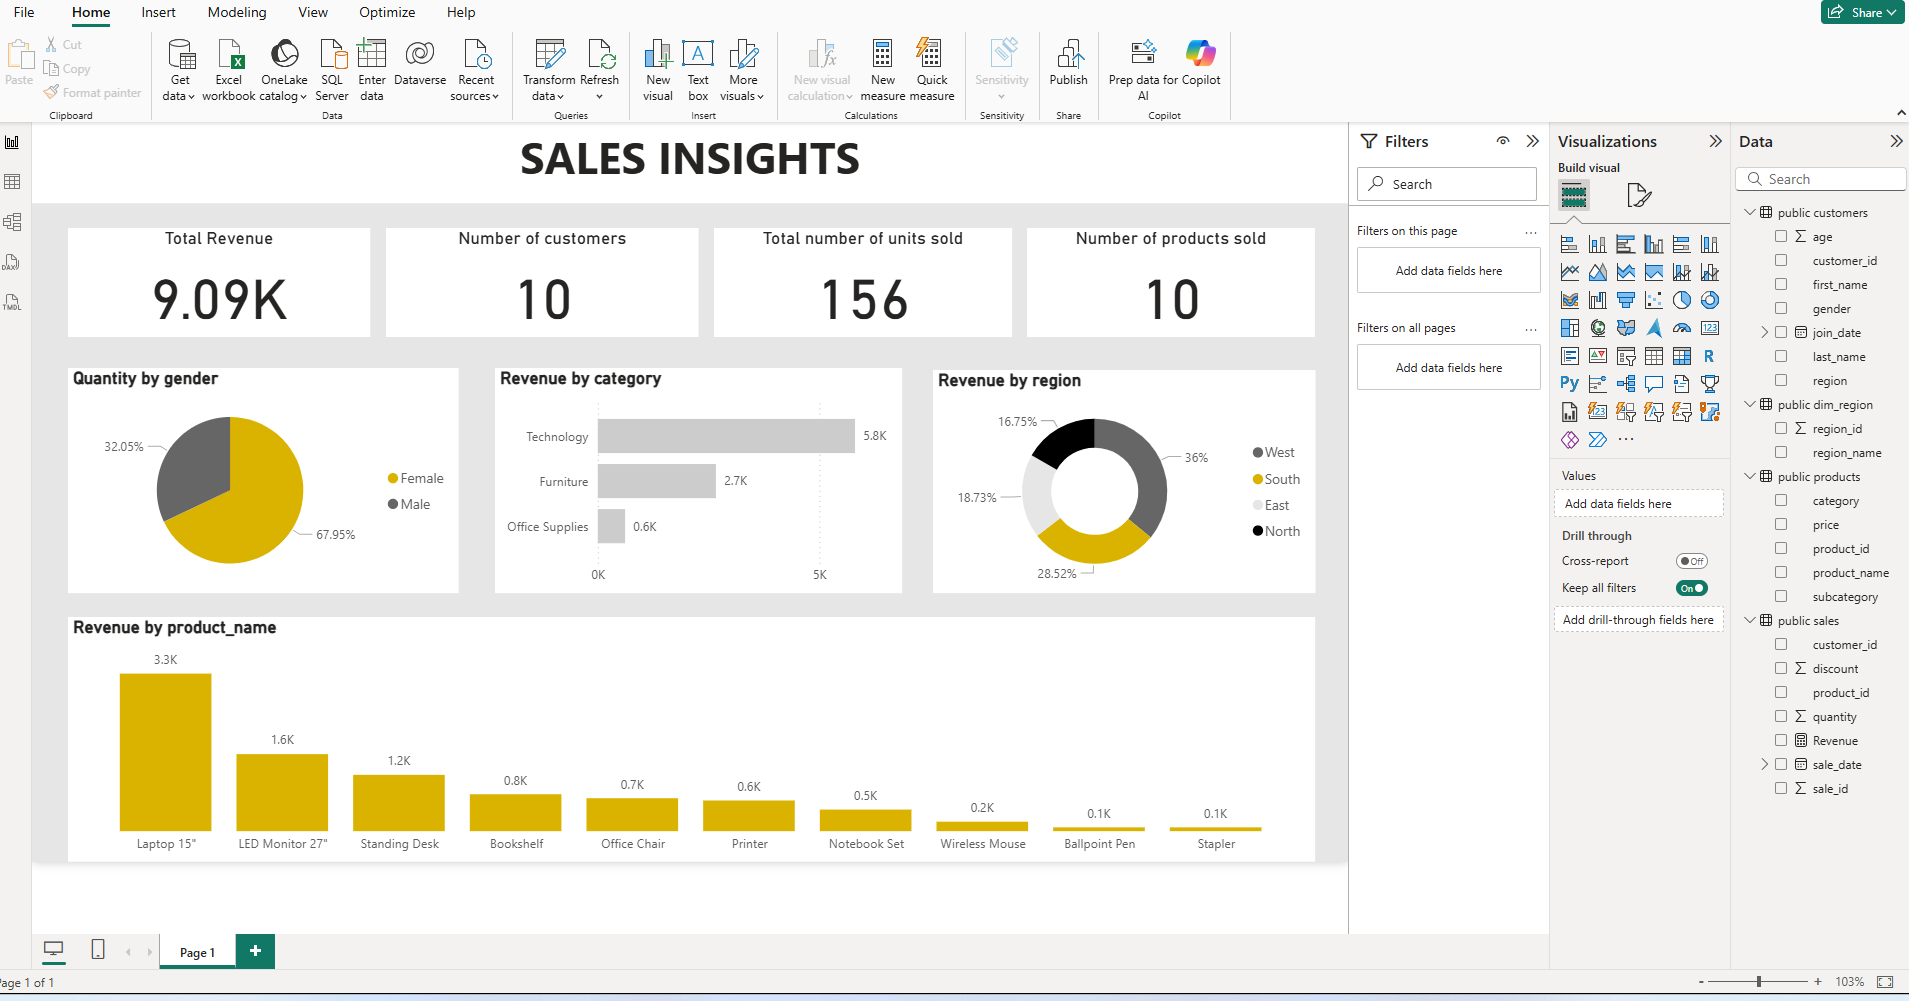

The dashboard page shown, as its layout file describes it:
{"tool":"powerbi","page":{"name":"Page 1","canvas":[1280,720],"ordinal":0},"visuals":[{"type":"pieChart","title":"Quantity by gender","fields":{"Series":["public customers.gender"],"Y":["Sum(public sales.quantity)"]},"box":[35,239.3,380.3,218.8],"z":0},{"type":"clusteredBarChart","fields":{"Category":["public products.category"],"Y":["public sales.Revenue"]},"box":[450.3,239.3,395.9,218.8],"z":1000},{"type":"donutChart","fields":{"Category":["public customers.region"],"Y":["public sales.Revenue"]},"box":[876.4,241.2,371.6,216.9],"z":2000},{"type":"card","title":"Total Revenue","fields":{"Values":["public sales.Revenue"]},"box":[35,103.1,293.7,106],"z":3000},{"type":"clusteredColumnChart","fields":{"Category":["public products.product_name"],"Y":["public sales.Revenue"]},"box":[35,481.5,1212.9,238.3],"z":4000},{"type":"textbox","box":[0,0,1280,78.8],"z":5000},{"type":"card","title":"Total number of units sold","fields":{"Values":["Sum(public sales.quantity)"]},"box":[663.3,103.1,289.8,106],"z":6000},{"type":"card","title":"Number of customers","fields":{"Values":["CountNonNull(public customers.customer_id)"]},"box":[344.3,103.1,304.4,106],"z":7000},{"type":"card","title":"Number of products sold","fields":{"Values":["CountNonNull(public products.product_id)"]},"box":[967.8,103.1,280.1,106],"z":8000}]}

Visuals, with their boxes on the page's 1280x720 design canvas (x1, y1, x2, y2). These are canvas units, not pixel positions in the 1909x1001 screenshot, which may show the page scaled, cropped or inside an application window:
"Quantity by gender" pieChart: Rect(35, 239, 415, 458)
clusteredBarChart - public products.category x public sales.Revenue: Rect(450, 239, 846, 458)
donutChart - public customers.region x public sales.Revenue: Rect(876, 241, 1248, 458)
"Total Revenue" card: Rect(35, 103, 329, 209)
clusteredColumnChart - public products.product_name x public sales.Revenue: Rect(35, 482, 1248, 720)
textbox: Rect(0, 0, 1280, 79)
"Total number of units sold" card: Rect(663, 103, 953, 209)
"Number of customers" card: Rect(344, 103, 649, 209)
"Number of products sold" card: Rect(968, 103, 1248, 209)
